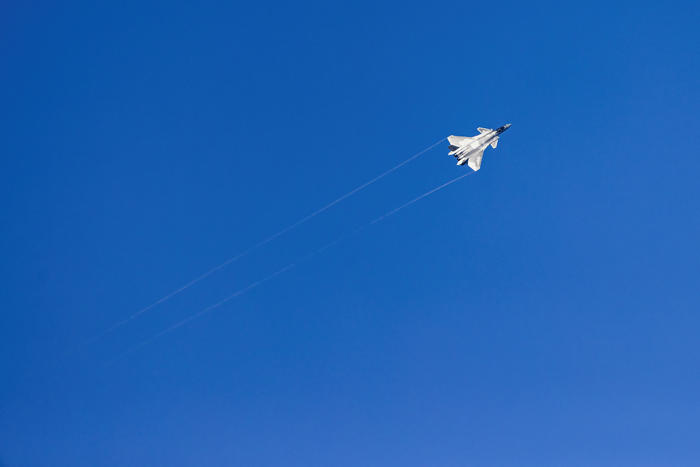J20: (446, 122, 513, 172)
